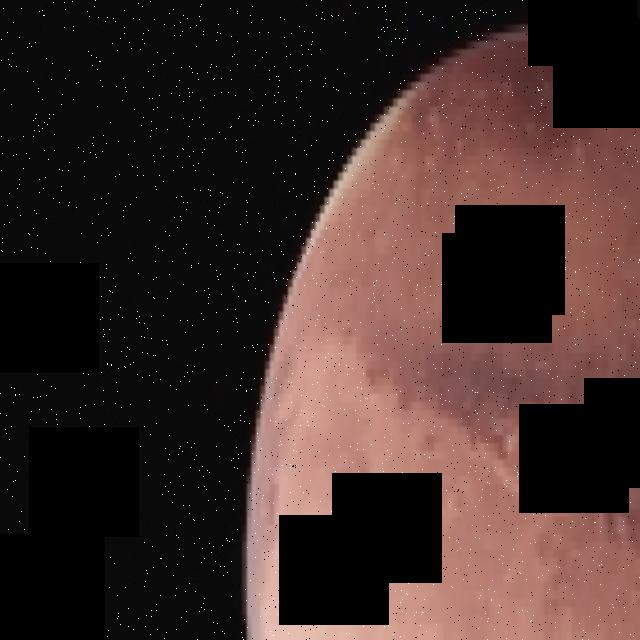Mars: (242, 33, 640, 640)
